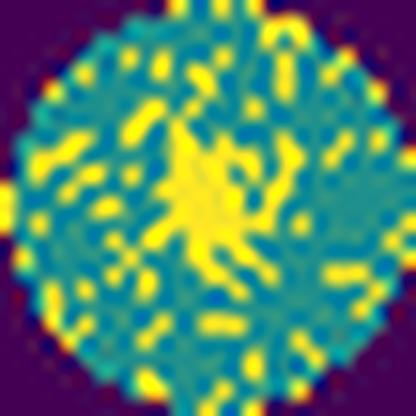Center: (138, 112, 308, 302)
